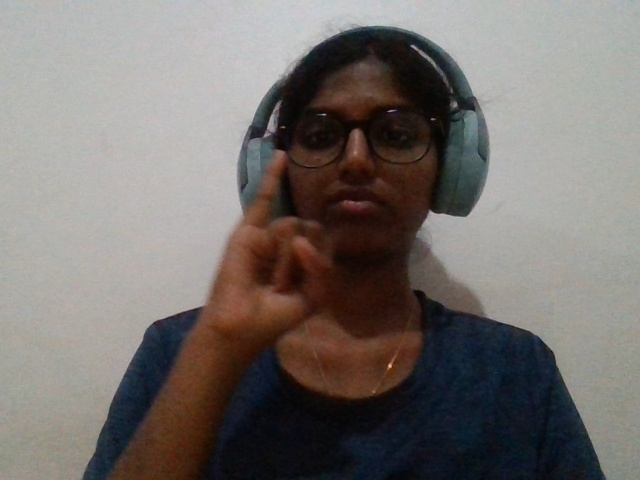I: (175, 135, 380, 391)
